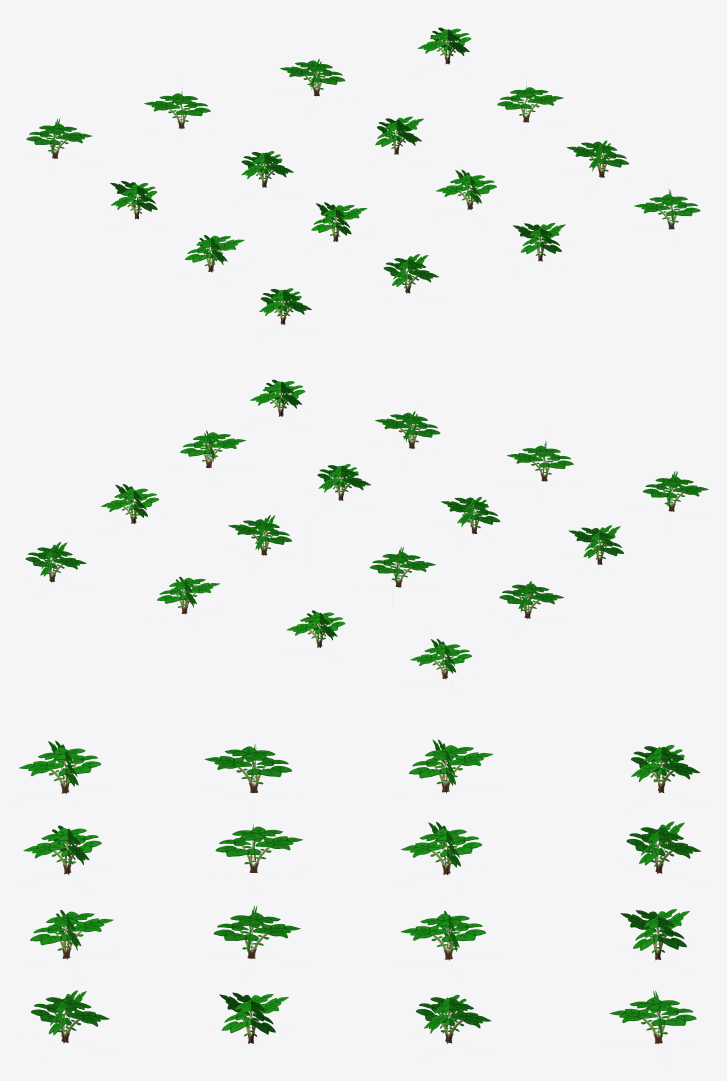
File: potato_0.glb
The picture shows the model from 3 angles, top to bottom: view 1: azimuth 30°, elevation 25°; view 2: azimuth 150°, elevation 25°; view 3: azimuth 270°, elevation 25°; orthographic projection. The views are drawn at different scales.
Visible parts, largest first — view 1: Potatoe_F1; view 2: Potatoe_F1; view 3: Potatoe_F1.
Boxes of the visible parts, box(x1,y1,x2,y2) form: Potatoe_F1: box(26, 27, 700, 324); Potatoe_F1: box(25, 379, 708, 679); Potatoe_F1: box(19, 739, 700, 1043).
Size of the model in its own units: 1.93 by 0.1409 by 1.93.
1 material, 1 textured.
